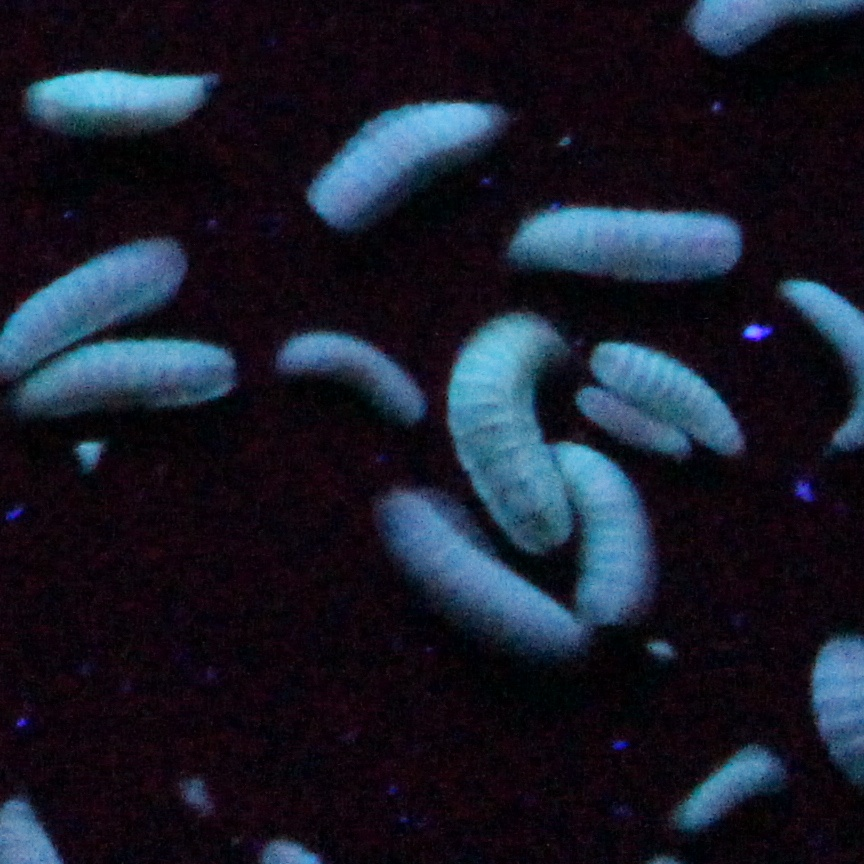larve: (371, 489, 573, 652), (453, 299, 562, 550), (316, 88, 507, 217), (21, 343, 236, 424), (268, 316, 422, 421), (509, 209, 748, 273), (591, 339, 734, 442), (24, 69, 221, 123), (580, 467, 648, 621), (571, 385, 691, 462), (678, 744, 776, 830)
